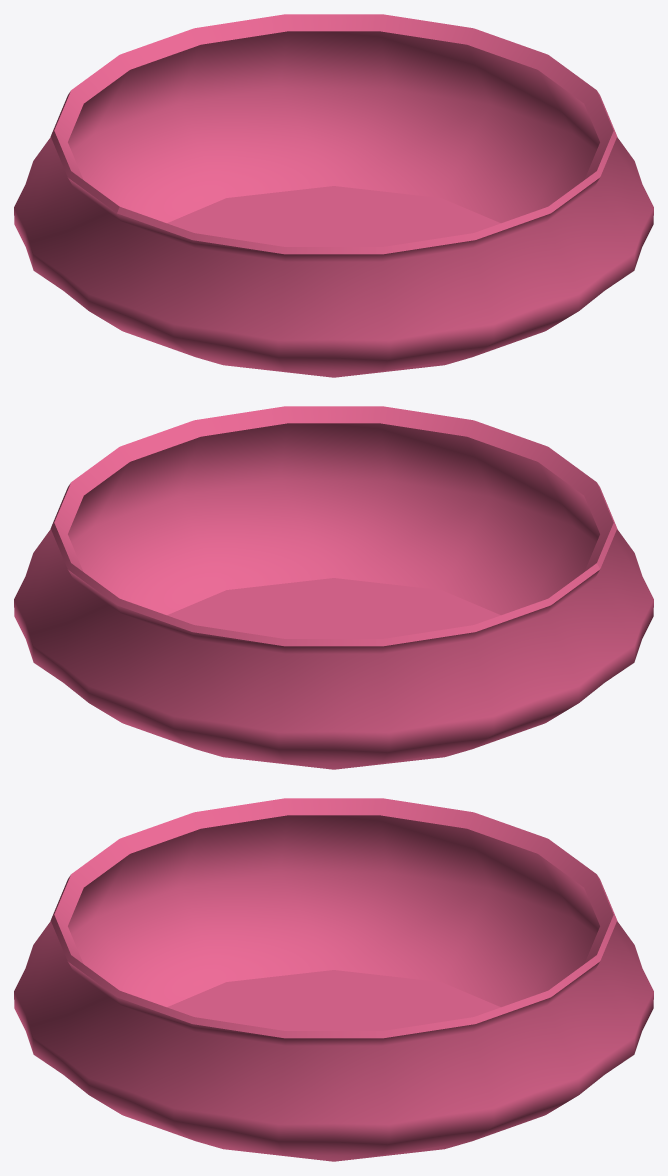
File: Tableware_V8_2.fbx
The picture shows the model from 3 angles, top to bottom: view 1: azimuth 30°, elevation 25°; view 2: azimuth 150°, elevation 25°; view 3: azimuth 270°, elevation 25°; orthographic projection.
Visible parts, largest first — view 1: SM_Tableware_V8_2; view 2: SM_Tableware_V8_2; view 3: SM_Tableware_V8_2.
Boxes of the visible parts, x1=… form: SM_Tableware_V8_2: x1=14, y1=14, x2=653, y2=377; SM_Tableware_V8_2: x1=14, y1=406, x2=653, y2=769; SM_Tableware_V8_2: x1=14, y1=798, x2=653, y2=1161.
Bounding box in the file's own units: 15.7 × 4.22 × 15.94.
